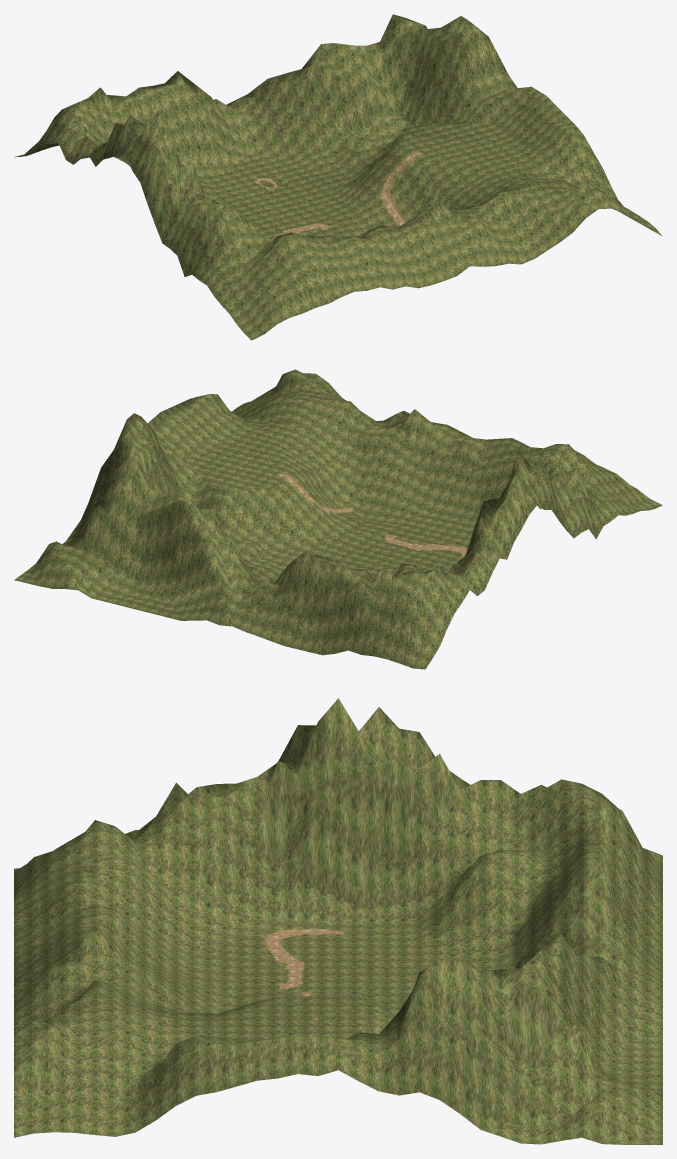
3 views of the same model, one above another, from view 1: azimuth 30°, elevation 25°; view 2: azimuth 150°, elevation 25°; view 3: azimuth 270°, elevation 25° (orthographic). The views are drawn at different scales.
Parts seen in each view (by area): view 1: Mesh; view 2: Mesh; view 3: Mesh.
Boxes of the visible parts, <box> form: Mesh: <box>14,14,662,340</box>; Mesh: <box>14,369,662,669</box>; Mesh: <box>14,698,662,1144</box>.
Bounding box in the file's own units: 300 × 101 × 300.
Materials: 1 (1 with a texture image).
